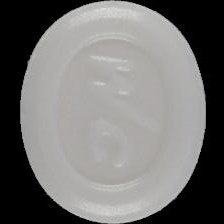0430-0145: (0, 0, 224, 224)
